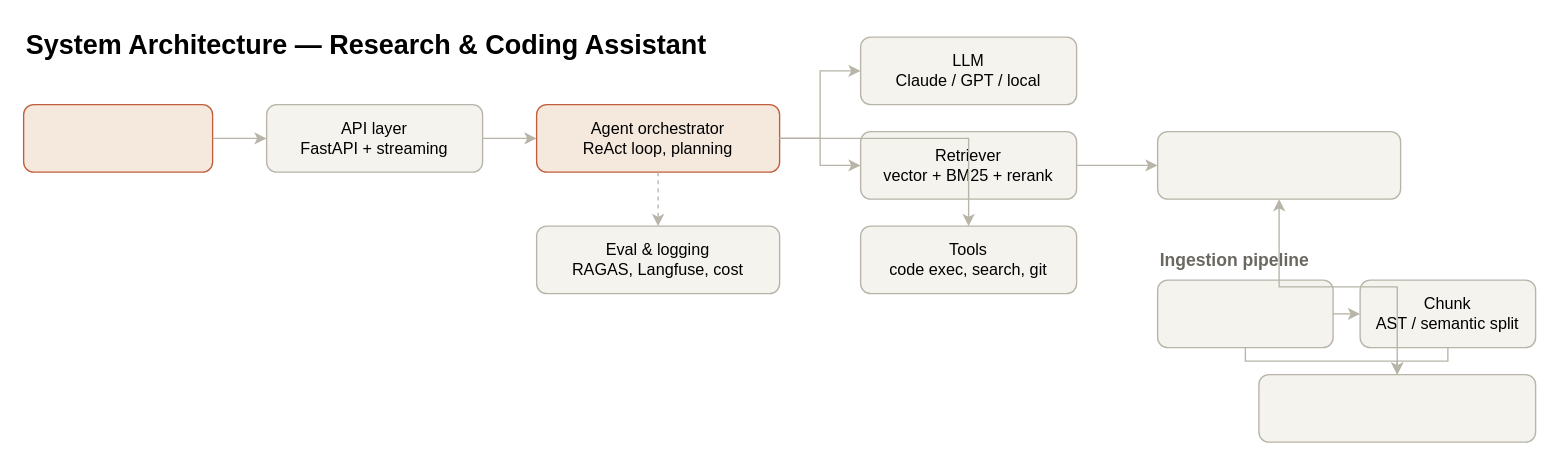
Image size: 1559x466. Some labels were removed from this diagram. Here are the shapes that lost their labels. From the top down, the centre of each, then its label:
At point 117,137: "User query / chat UI".
At point 1278,164: "Vector DB + index Chroma / FAISS / Qdrant".
At point 1244,313: "Load docs, code, PDFs".
At point 1397,407: "Embed text-embedding model".
